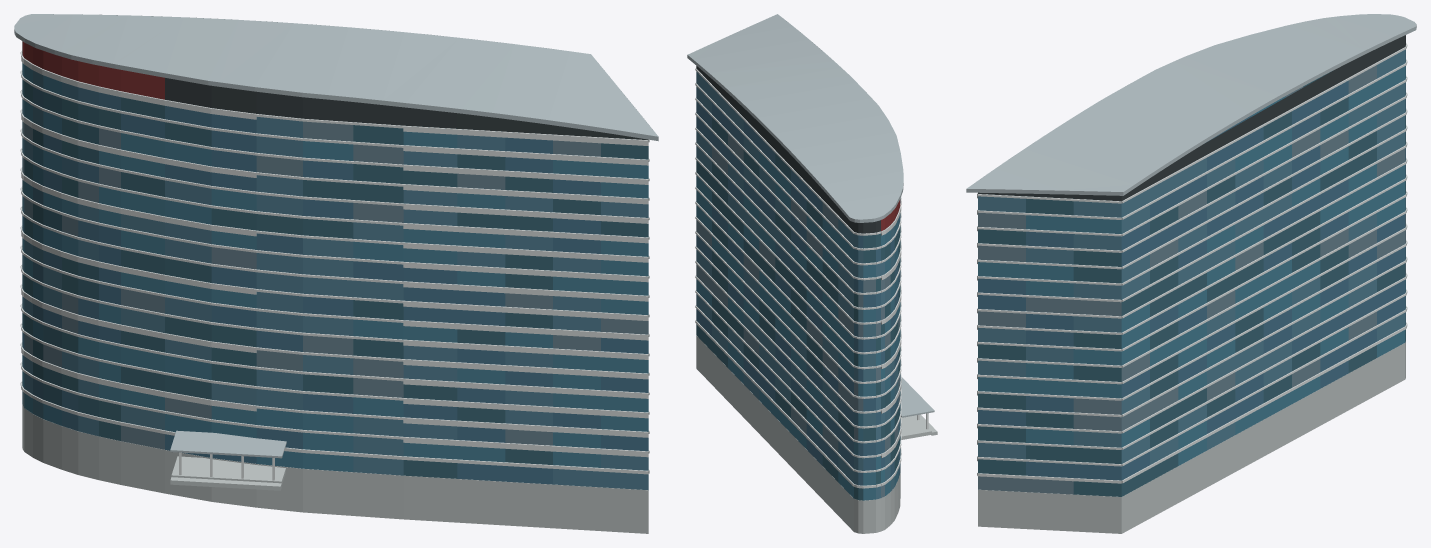
Rendered from menara_razak_lod2.glb.
The picture shows the model from 3 angles, left to right: view 1: azimuth 30°, elevation 25°; view 2: azimuth 150°, elevation 25°; view 3: azimuth 270°, elevation 25°; orthographic projection. The views are drawn at different scales.
Visible parts, largest first — view 1: WhiteSpandrel, Glass_0, RoofCladding, Glass_2, Glass_3, Glass_1, Concrete, GlassNight, Reveal, Burgundy; view 2: RoofCladding, WhiteSpandrel, Glass_1, Glass_0, Glass_2, Glass_3, Concrete, GlassNight, Reveal; view 3: RoofCladding, Glass_0, WhiteSpandrel, Glass_1, Glass_3, Glass_2, Concrete, GlassNight, Reveal.
Boxes of the visible parts, x1=… form: WhiteSpandrel: x1=20, y1=50, x2=649, y2=480; Glass_0: x1=22, y1=63, x2=648, y2=471; RoofCladding: x1=14, y1=14, x2=658, y2=458; Glass_2: x1=22, y1=70, x2=648, y2=490; Glass_3: x1=22, y1=54, x2=648, y2=478; Glass_1: x1=22, y1=74, x2=648, y2=484; Concrete: x1=22, y1=404, x2=648, y2=533; GlassNight: x1=22, y1=118, x2=648, y2=449; Reveal: x1=22, y1=41, x2=648, y2=139; Burgundy: x1=22, y1=41, x2=164, y2=99; RoofCladding: x1=687, y1=14, x2=934, y2=417; WhiteSpandrel: x1=695, y1=68, x2=928, y2=488; Glass_1: x1=696, y1=101, x2=900, y2=485; Glass_0: x1=696, y1=151, x2=900, y2=500; Glass_2: x1=696, y1=71, x2=900, y2=499; Glass_3: x1=696, y1=114, x2=900, y2=500; Concrete: x1=696, y1=335, x2=937, y2=533; GlassNight: x1=696, y1=133, x2=900, y2=497; Reveal: x1=696, y1=66, x2=880, y2=233; RoofCladding: x1=966, y1=14, x2=1416, y2=195; Glass_0: x1=978, y1=64, x2=1405, y2=465; WhiteSpandrel: x1=977, y1=43, x2=1407, y2=483; Glass_1: x1=978, y1=80, x2=1405, y2=480; Glass_3: x1=978, y1=71, x2=1405, y2=496; Glass_2: x1=978, y1=49, x2=1405, y2=464; Concrete: x1=978, y1=341, x2=1405, y2=533; GlassNight: x1=978, y1=65, x2=1405, y2=494; Reveal: x1=978, y1=35, x2=1405, y2=201.
Bounding box in the file's own units: 61.39 × 59.7 × 68.05.
